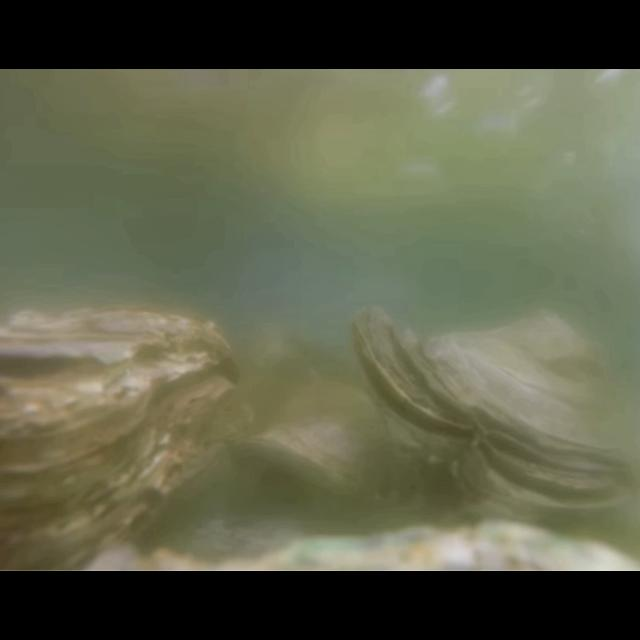Oyster-Closed: (0, 308, 252, 572)
Oyster-Indeterminate: (242, 383, 416, 502)
Oyster-Open: (350, 304, 640, 522)
